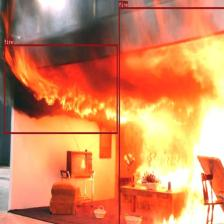fire: (118, 6, 223, 224), (4, 44, 117, 133)
